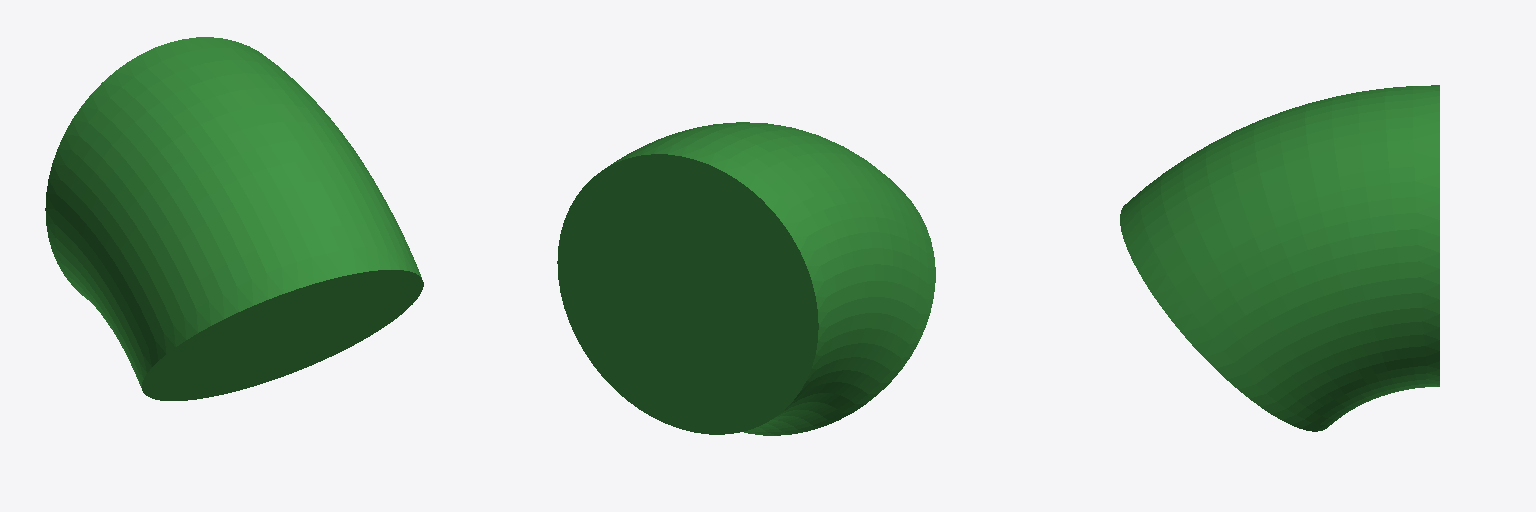
Rendered from Body1.obj.
3 views of the same model, side by side, from view 1: azimuth 30°, elevation 25°; view 2: azimuth 150°, elevation 25°; view 3: azimuth 270°, elevation 25° (orthographic).
Parts seen in each view (by area): view 1: Body1; view 2: Body1; view 3: Body1.
Boxes of the visible parts, x1=… form: Body1: x1=45, y1=37, x2=423, y2=400; Body1: x1=557, y1=122, x2=935, y2=435; Body1: x1=1120, y1=85, x2=1439, y2=431.
Bounding box in the file's own units: 40 × 45.81 × 42.41.